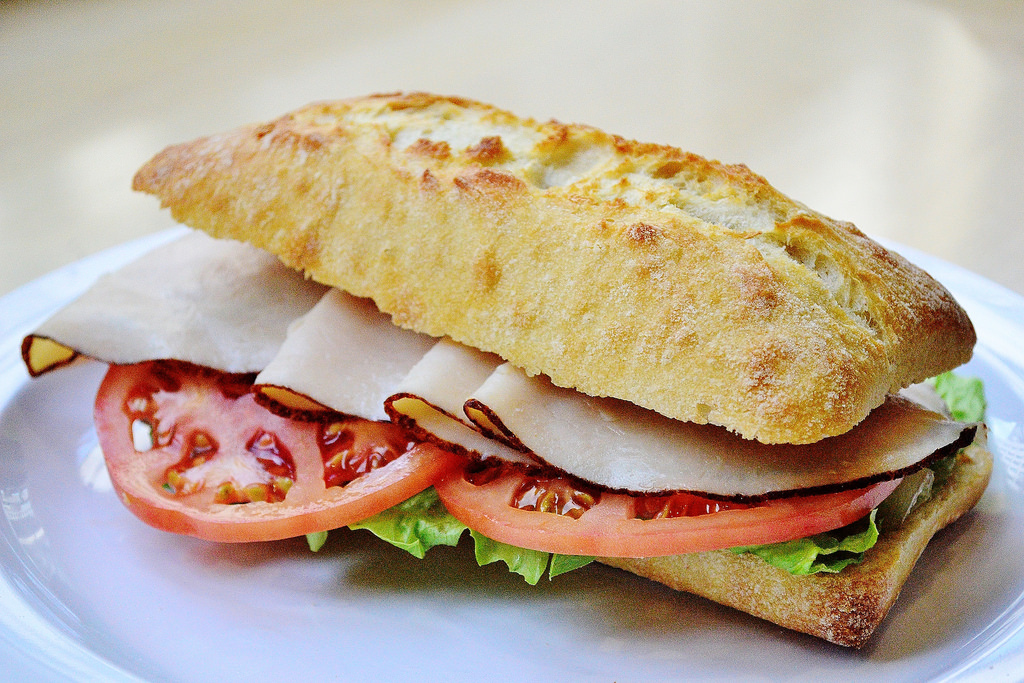slice of bread: (137, 100, 1006, 366), (401, 515, 919, 651)
